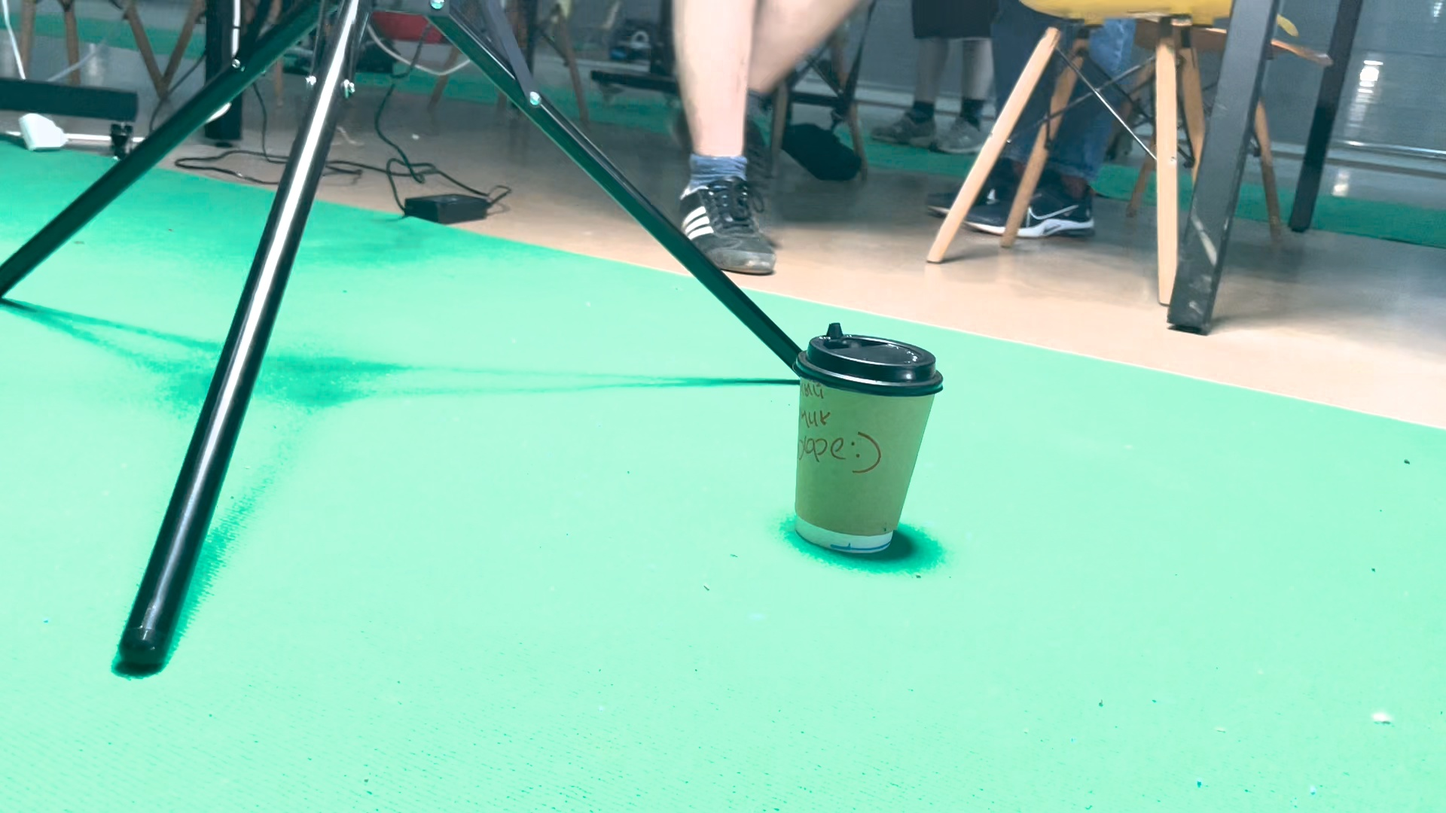cup: (751, 409, 840, 525)
